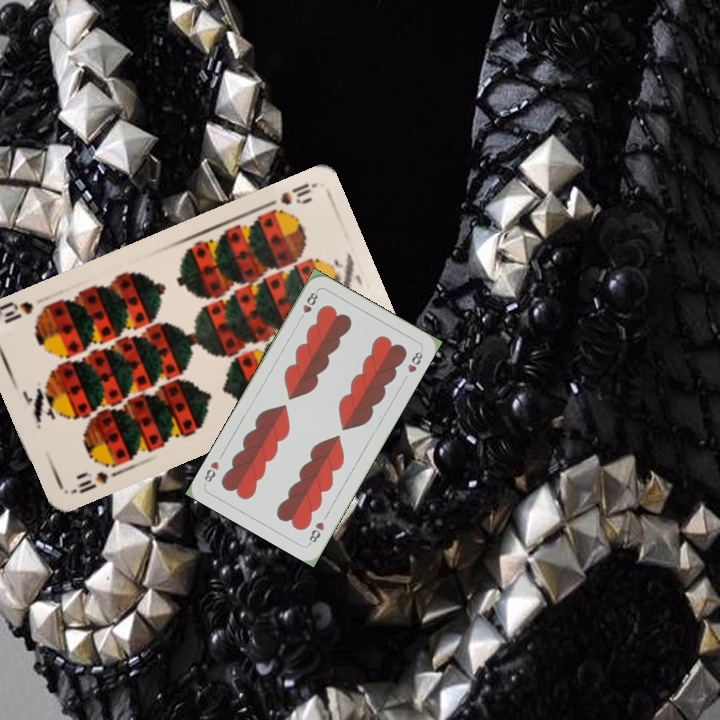H8: (295, 287, 321, 324), (305, 518, 327, 547)
S10: (260, 179, 316, 211), (66, 467, 111, 497)
